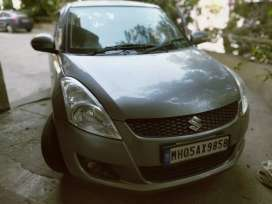license_plate: (160, 138, 233, 162)
